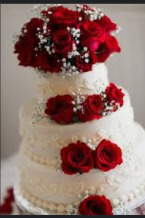RedRose: (57, 141, 94, 175), (46, 91, 78, 124), (95, 136, 123, 170), (81, 91, 106, 123)
